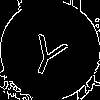Y: (25, 25, 73, 79)
